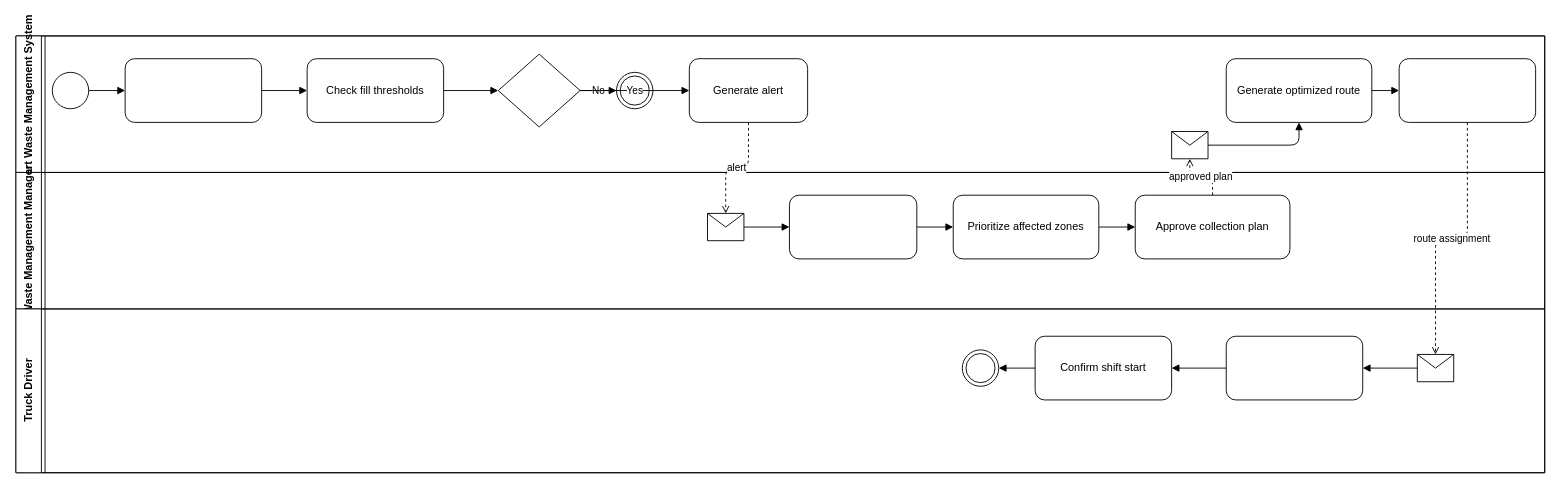
The diagram is 1561 pixels wide and 490 high, and some of its shapes have lost their labels. Here are the shapes that lost their labels. From the top down, the centre of each, then its label:
[193,90]: Update bin fill levels
[538,90]: Any bin above threshold?
[1467,90]: Assign truck and driver
[853,226]: Review dashboard
[1294,367]: Review assigned route
